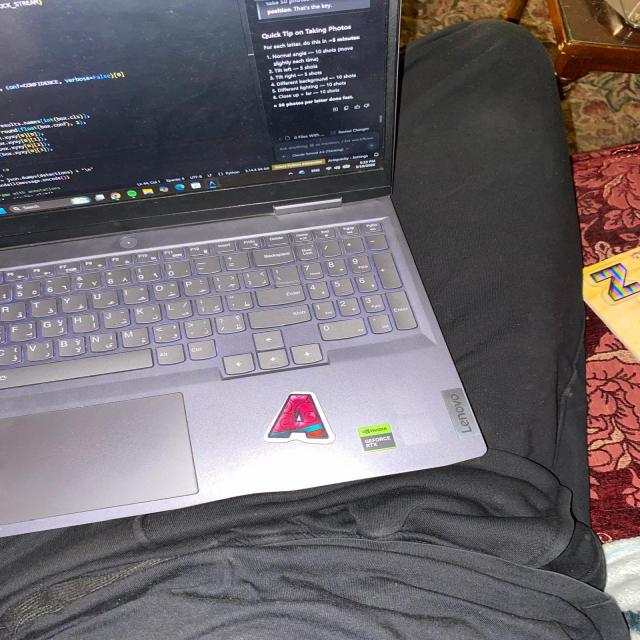A: (265, 391, 334, 444)
